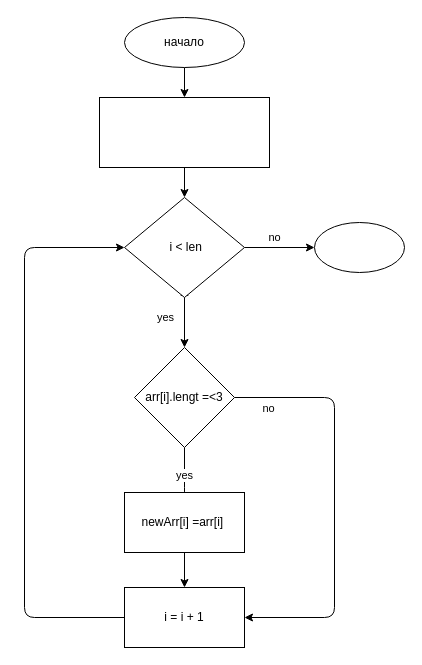
This 422x665 diagram has some shape labels left out. The box of each missing label's shape, as (x1, y1, x2, y2) in pixels:
string[ ] arr = {....} len = arr.Lengt i=0 newArr[ ] = new arrey (len): (98, 96, 270, 168)
конец: (314, 222, 404, 272)
